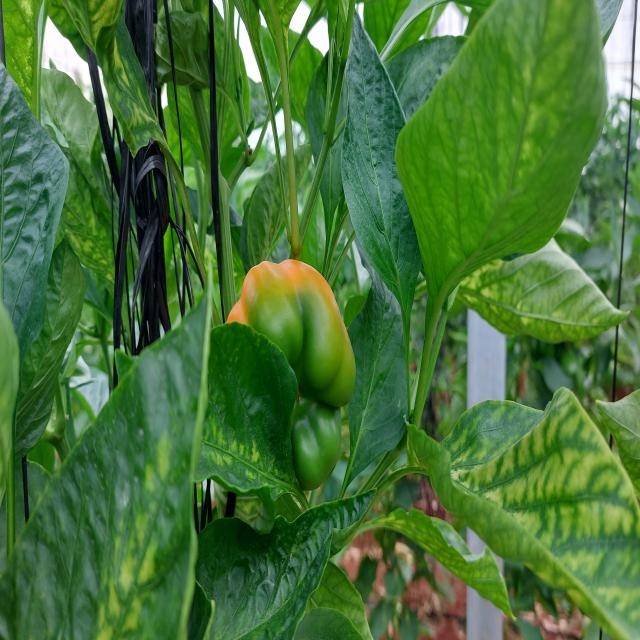GreenishYellow--Can-be-Harvested: (209, 182, 379, 484)
